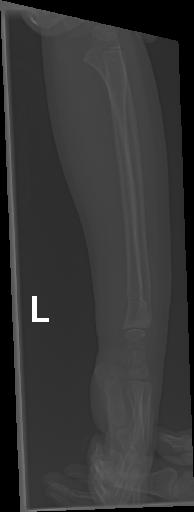fractured: (118, 284, 160, 314)
